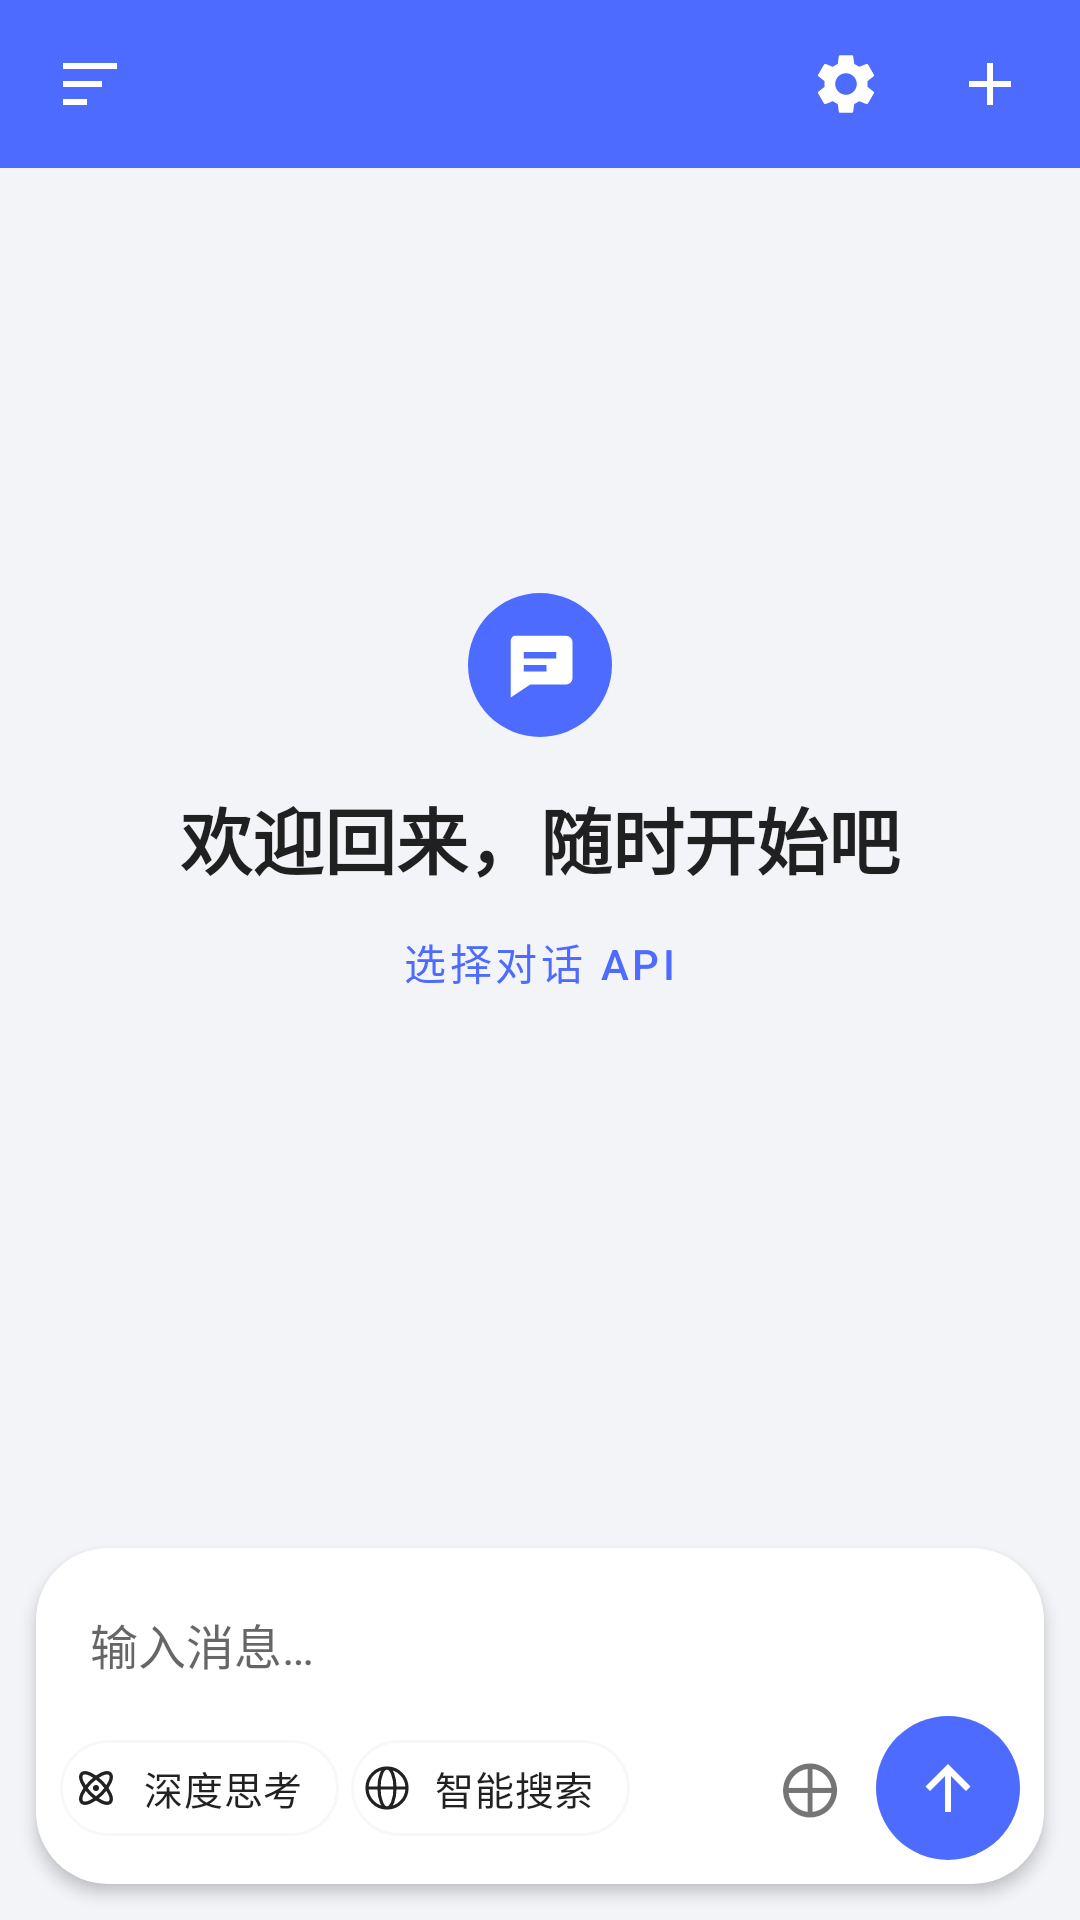

Where icons sit on this 1080*1920 app screen, as region(x1, y1, x2, y2):
chat: region(468, 593, 612, 737)
发送: region(876, 1716, 1020, 1860)
对话设置: region(818, 55, 874, 113)
新对话: region(969, 63, 1011, 105)
